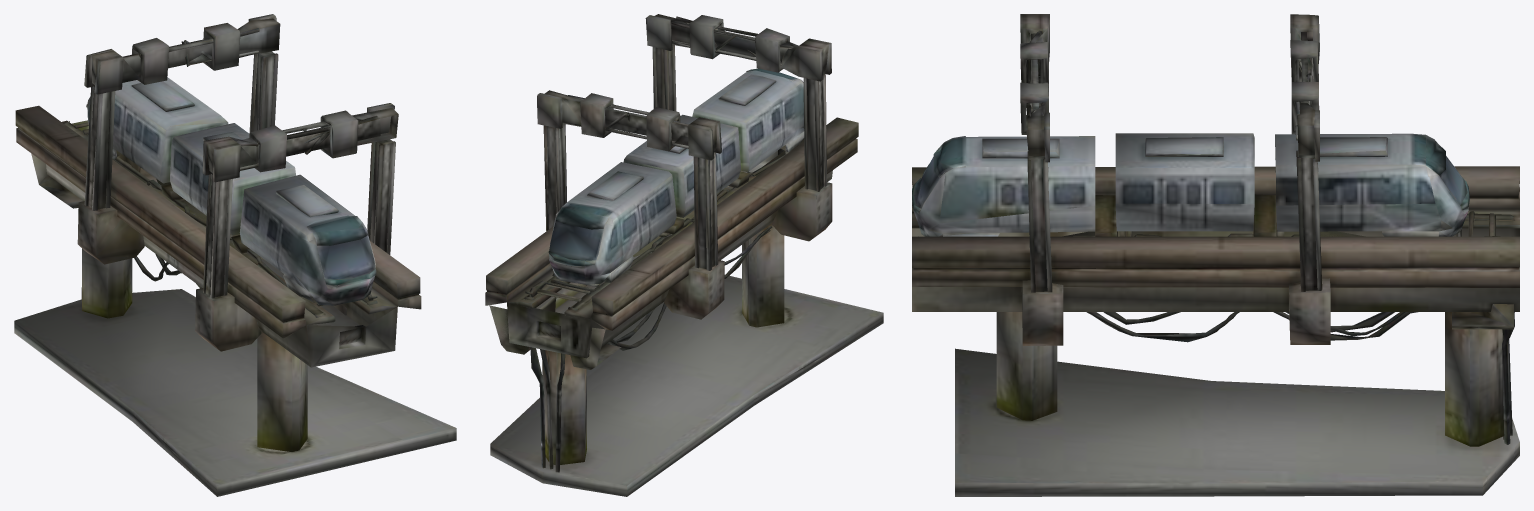
File: city_skytrain.glb
3 views of the same model, side by side, from view 1: azimuth 30°, elevation 25°; view 2: azimuth 150°, elevation 25°; view 3: azimuth 270°, elevation 25° (orthographic). The views are drawn at different scales.
Visible parts, largest first — view 1: Body; view 2: Body; view 3: Body.
Part boxes in pixels (left/top/right/bottom): Body: left=14, top=14, right=456, bottom=496; Body: left=485, top=14, right=883, bottom=496; Body: left=912, top=14, right=1519, bottom=496.
Bounding box in the file's own units: 10 × 13.66 × 19.28.
Materials: 1 (1 with a texture image).
